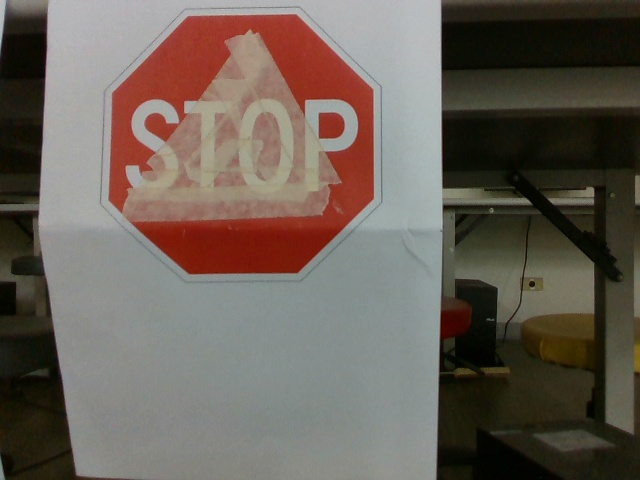stop: (102, 9, 385, 292)
